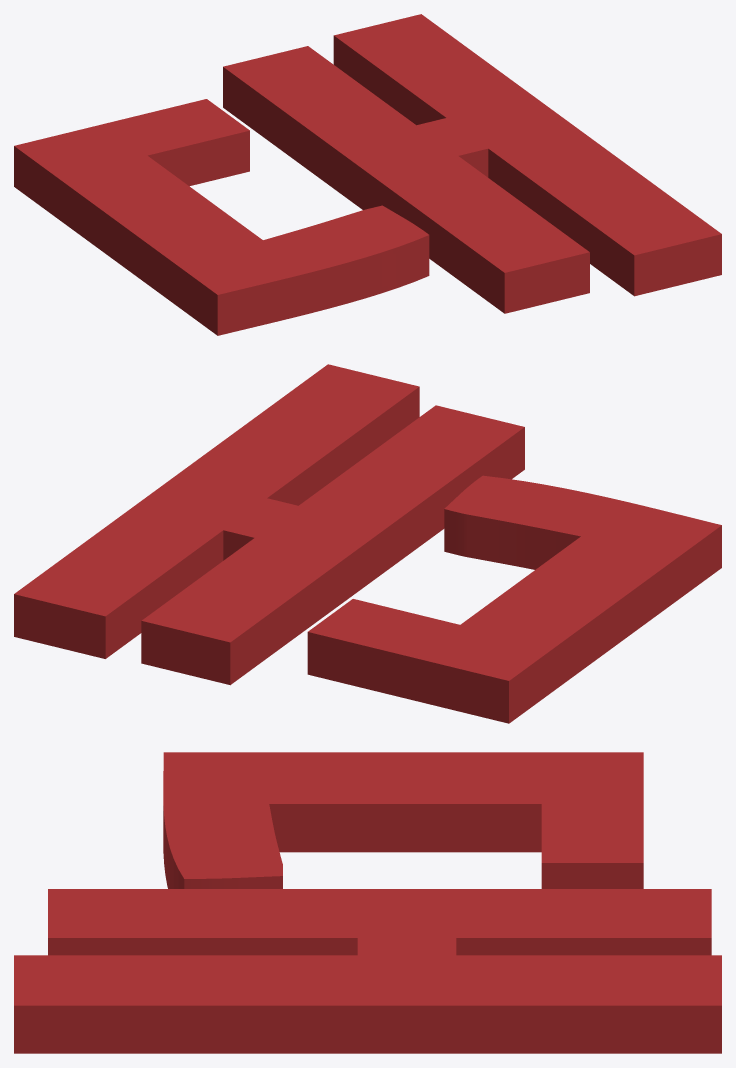
The model's file is dae.fbx.
3 views of the same model, one above another, from view 1: azimuth 30°, elevation 25°; view 2: azimuth 150°, elevation 25°; view 3: azimuth 270°, elevation 25° (orthographic). The views are drawn at different scales.
Parts seen in each view (by area): view 1: Curve, Curve.001; view 2: Curve, Curve.001; view 3: Curve, Curve.001.
Boxes of the visible parts, <box> form: Curve: <box>223,14,721,313</box>; Curve.001: <box>14,99,429,335</box>; Curve: <box>14,364,524,685</box>; Curve.001: <box>307,475,721,723</box>; Curve: <box>14,889,721,1053</box>; Curve.001: <box>163,752,643,888</box>.
Bounding box in the file's own units: 1691 × 150 × 1998.
